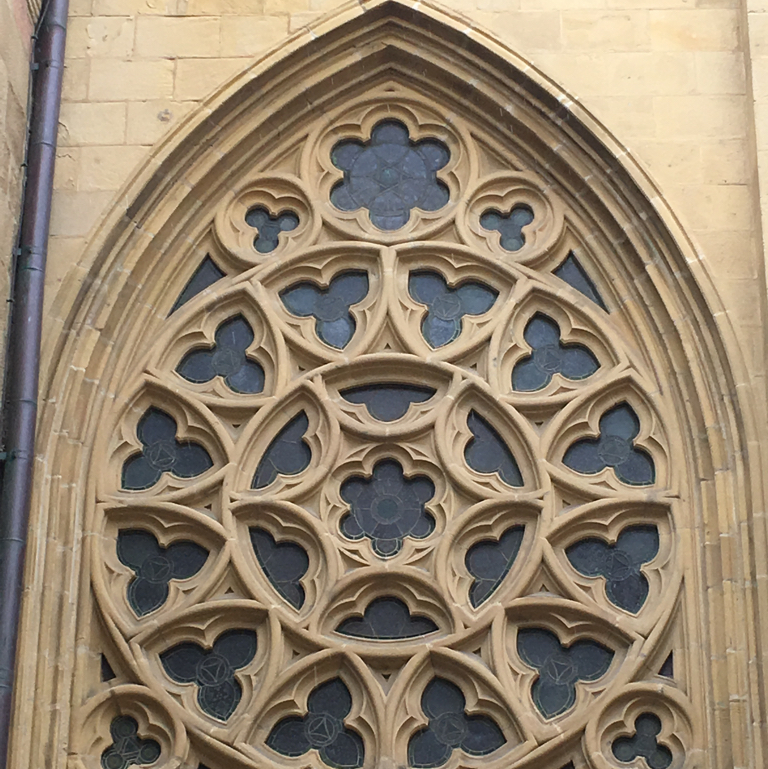arco-apuntado: (29, 1, 754, 479)
